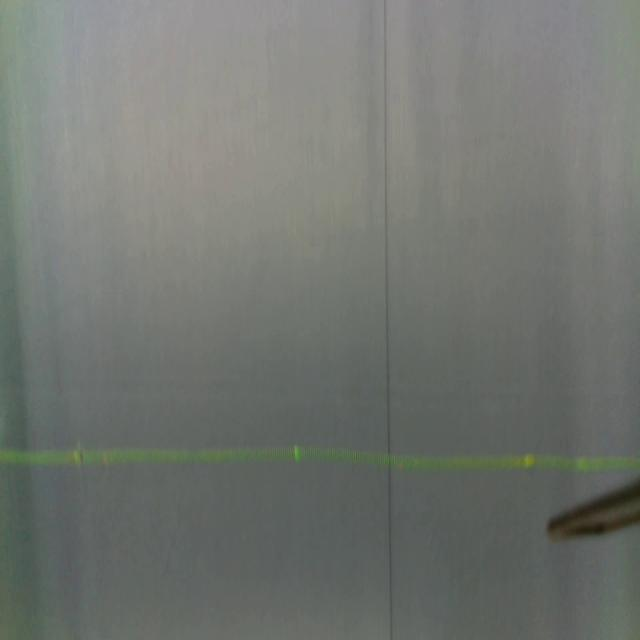crease: (380, 0, 396, 640)
